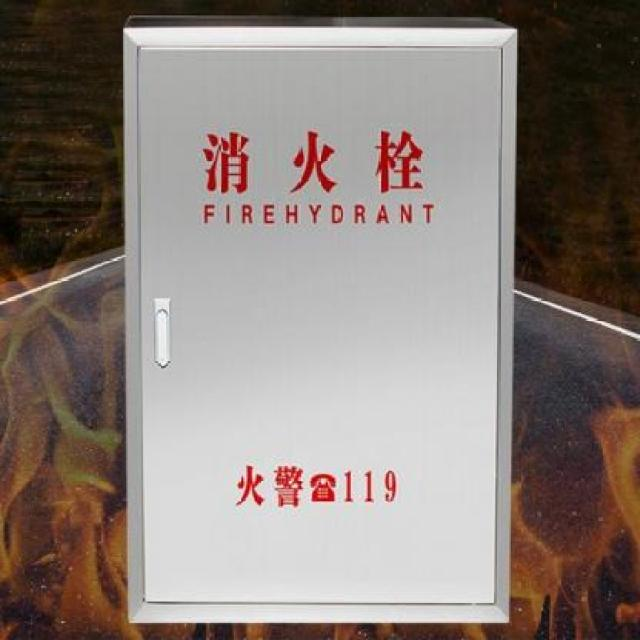firehydrant: (120, 22, 516, 629)
